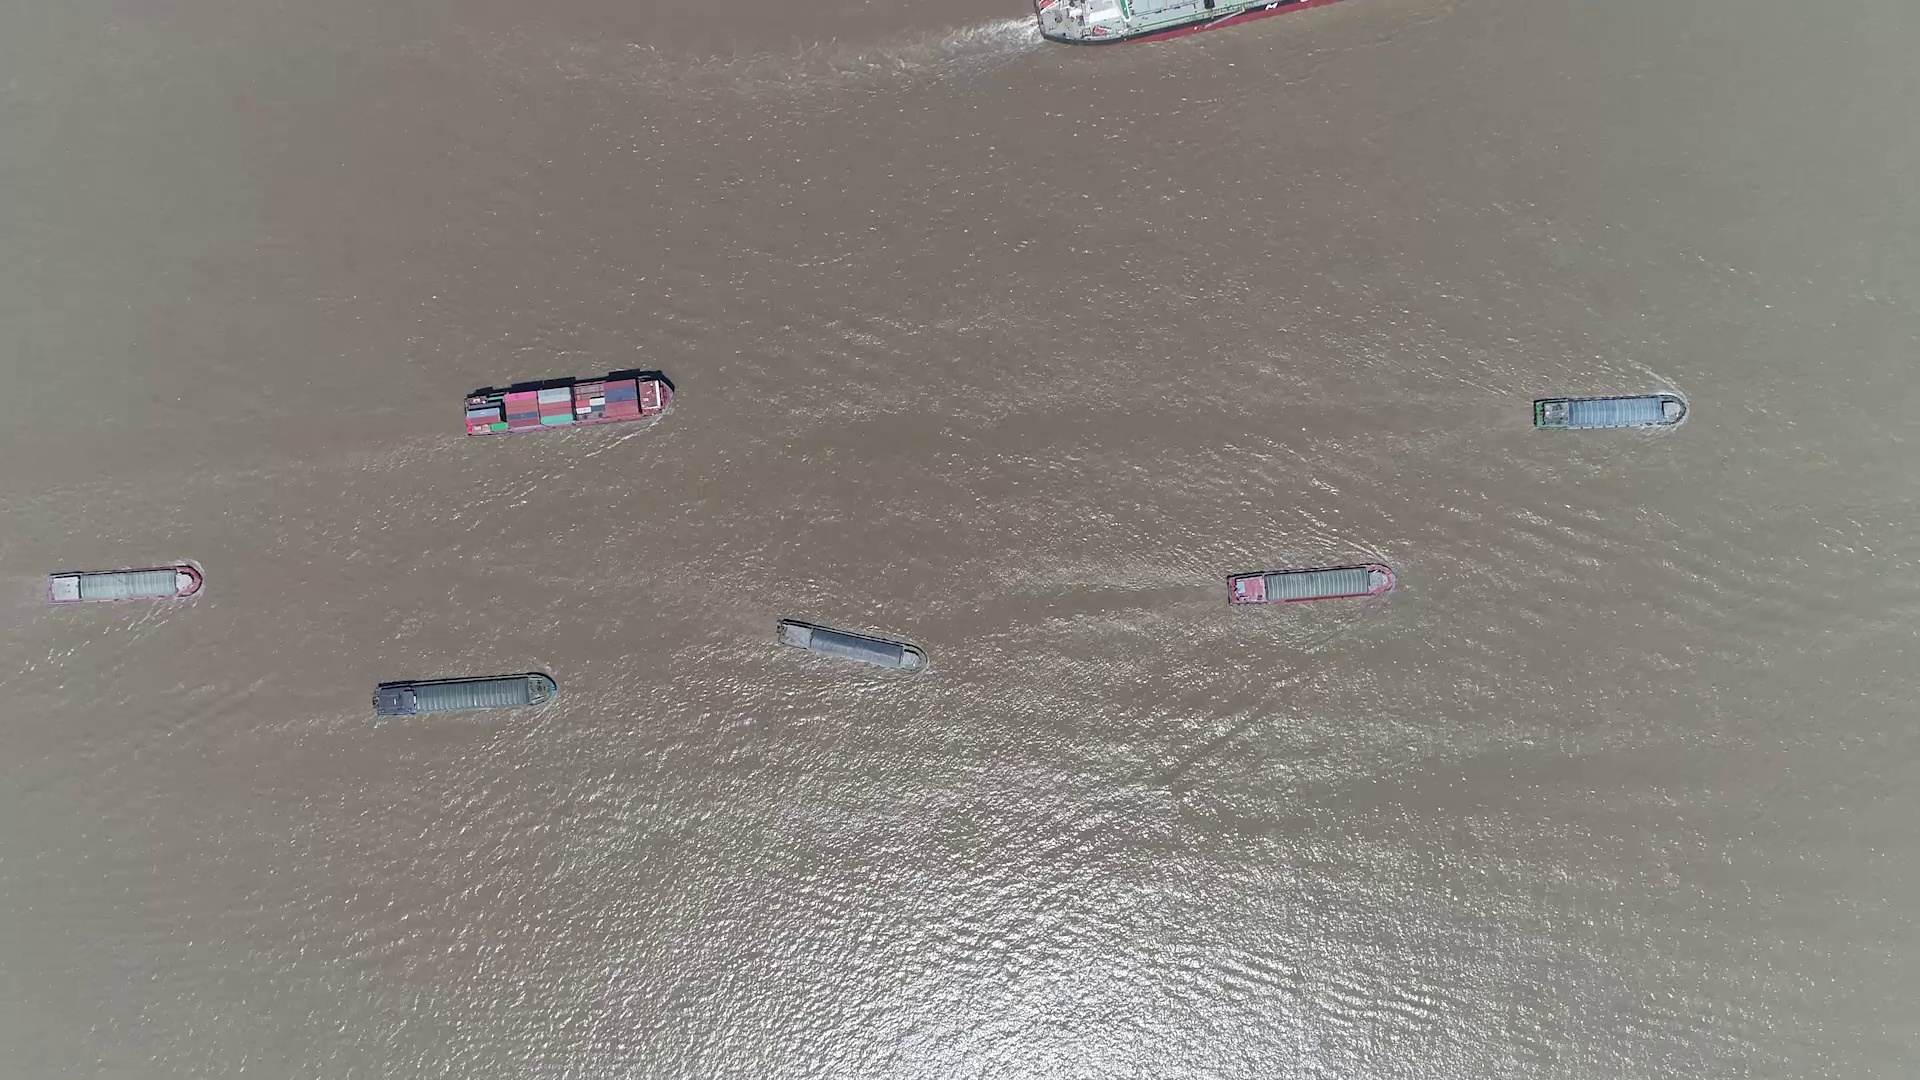ship: (464, 372, 675, 435), (1030, 0, 1333, 44), (775, 617, 928, 673), (375, 673, 556, 717), (1226, 564, 1396, 607), (46, 567, 203, 605), (1534, 394, 1687, 429)
